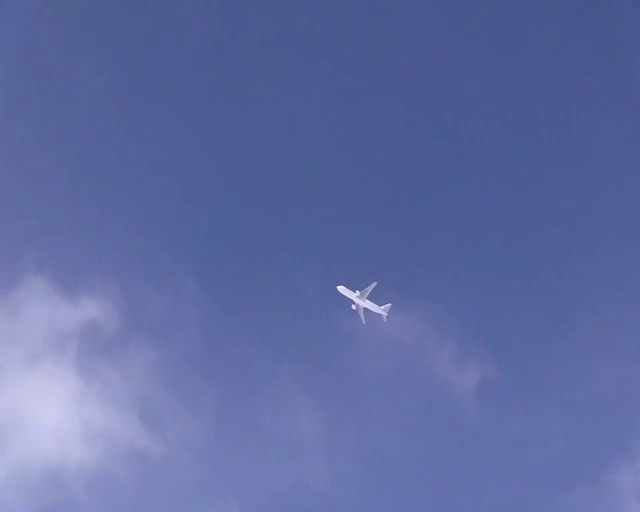AIRPLANE: (335, 281, 392, 324)
